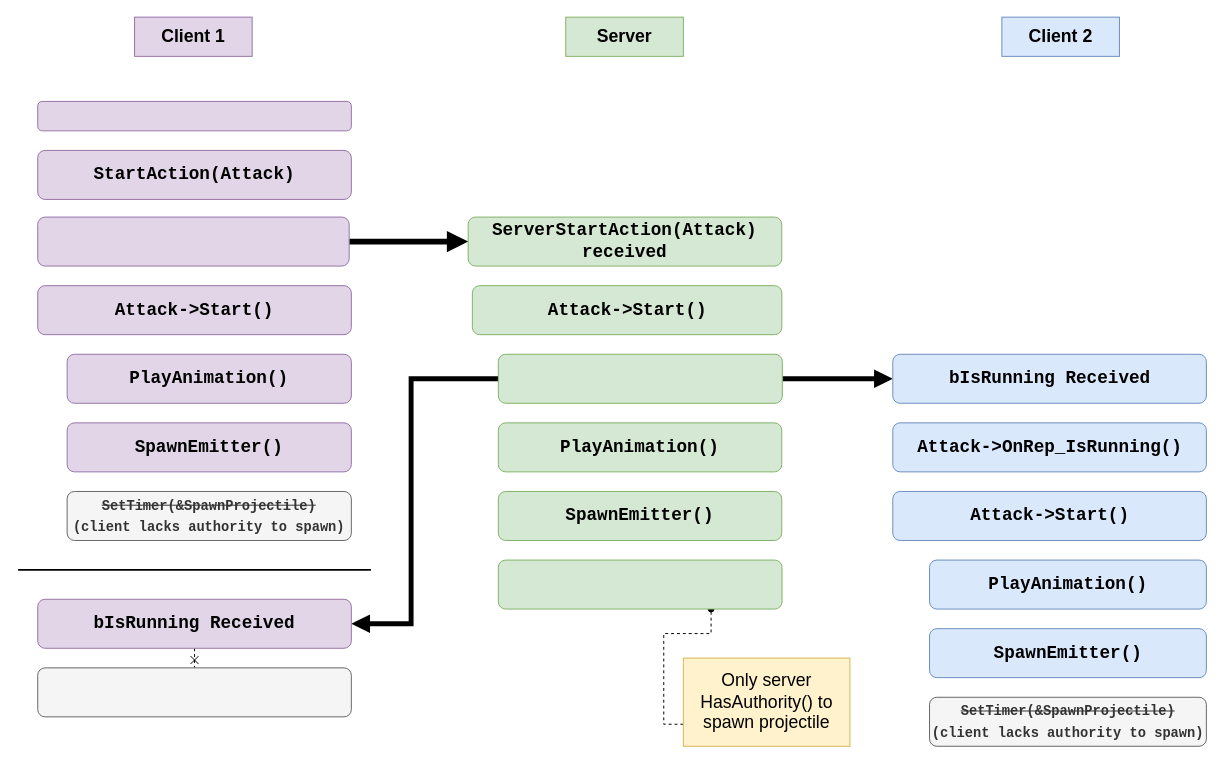
This 1223x763 diagram has some shape labels left out. The centre of each missing label's shape, as x and y in pixels:
Attack->bIsRunning = true: the point at 639,378
Attack->OnRep_IsRunning() (skipped since action is already running): the point at 194,692
Key Pressed: the point at 194,115
RPC: ServerStartAction(Attack): the point at 193,241
SetTimer(&SpawnProjectile): the point at 639,584
